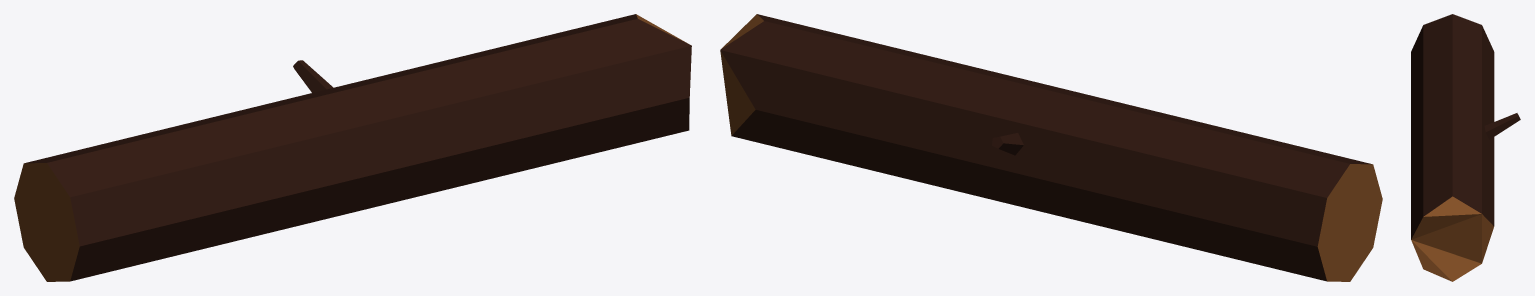
Rendered from Log_Broken_02.fbx.
The picture shows the model from 3 angles, left to right: view 1: azimuth 30°, elevation 25°; view 2: azimuth 150°, elevation 25°; view 3: azimuth 270°, elevation 25°; orthographic projection. The views are drawn at different scales.
Parts seen in each view (by area): view 1: Log_Broken_02_Mesh; view 2: Log_Broken_02_Mesh; view 3: Log_Broken_02_Mesh.
Part boxes in pixels (<box>): Log_Broken_02_Mesh: <box>14,14,691,281</box>; Log_Broken_02_Mesh: <box>720,14,1382,281</box>; Log_Broken_02_Mesh: <box>1411,14,1520,281</box>.
Size of the model in its own units: 3.29 by 0.6 by 0.7923.
1 material, 1 textured.
